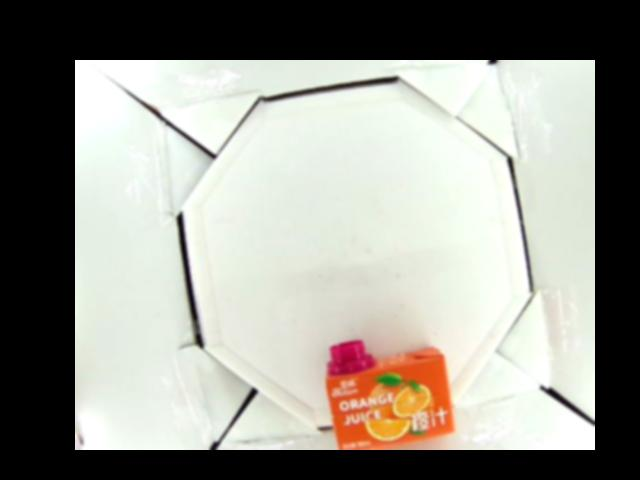Bottle: (325, 340, 458, 448)
